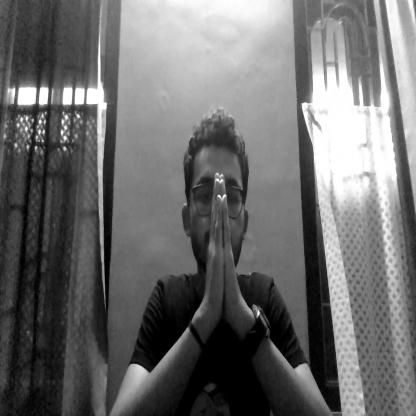Distracted: (180, 107, 255, 303)
